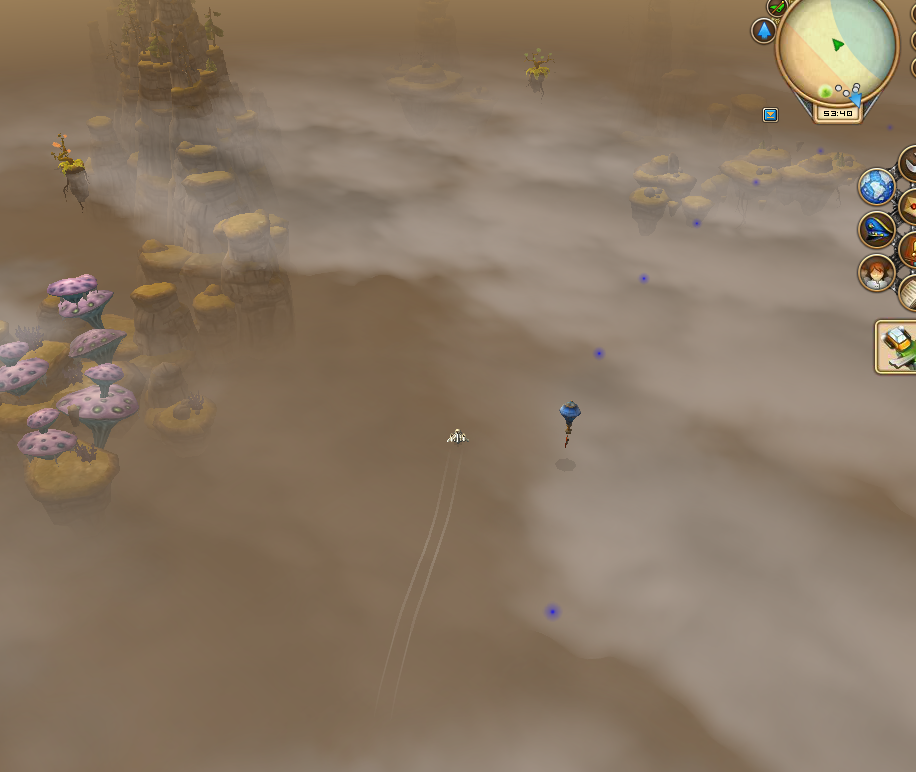dandelion-full: (46, 123, 92, 214), (519, 42, 556, 96)
